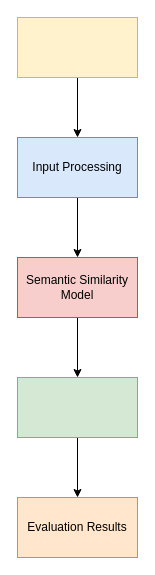
The diagram is 155 pixels wide and 575 high, and some of its shapes have lost their labels. Here are the shapes that lost their labels. From the top down, the centre of each, then its label:
At [77,47]: "User Interface".
At [77,407]: "Scoring Engine".
